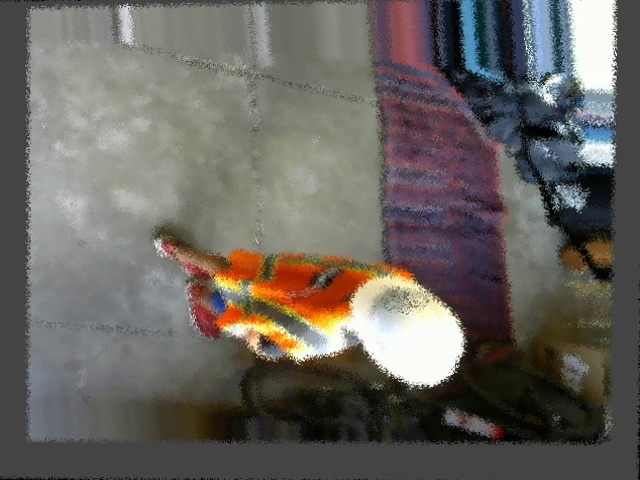eight: (381, 285, 427, 313)
